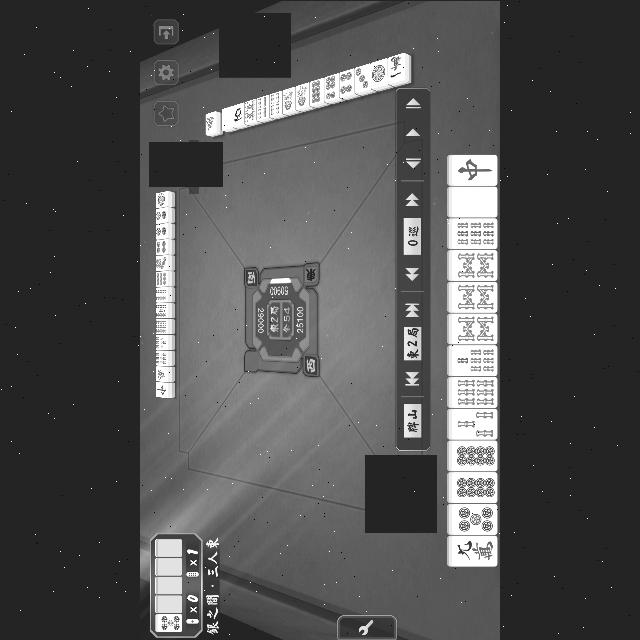1m: (388, 50, 412, 86)
1p: (371, 55, 387, 91), (152, 190, 175, 208)
1s: (295, 81, 309, 109), (283, 85, 295, 113)
2p: (153, 205, 177, 222), (153, 221, 174, 239)
3p: (355, 58, 371, 96)
3s: (453, 409, 497, 439)
4p: (339, 67, 355, 99), (153, 240, 174, 254)
4s: (270, 90, 282, 118), (155, 286, 175, 300), (258, 94, 268, 122)
5p: (452, 502, 498, 534), (156, 612, 182, 630), (154, 302, 176, 316)
6p: (325, 72, 337, 102)
6s: (452, 377, 496, 405), (154, 318, 176, 332)
7p: (154, 254, 176, 268)
7s: (453, 344, 497, 374), (154, 334, 176, 350)
8p: (452, 472, 496, 502), (453, 440, 497, 470), (310, 78, 324, 104)
8s: (453, 281, 497, 311), (452, 250, 496, 280), (453, 313, 497, 341), (244, 98, 256, 124)
9m: (453, 534, 497, 566)
9p: (155, 269, 175, 285)
9s: (452, 216, 498, 247), (154, 351, 176, 365)
chun: (452, 154, 496, 182), (156, 381, 177, 397)
haku: (452, 187, 496, 217), (222, 105, 232, 132)
hatsu: (202, 110, 220, 134), (153, 366, 175, 380)
sha: (233, 102, 245, 130)
